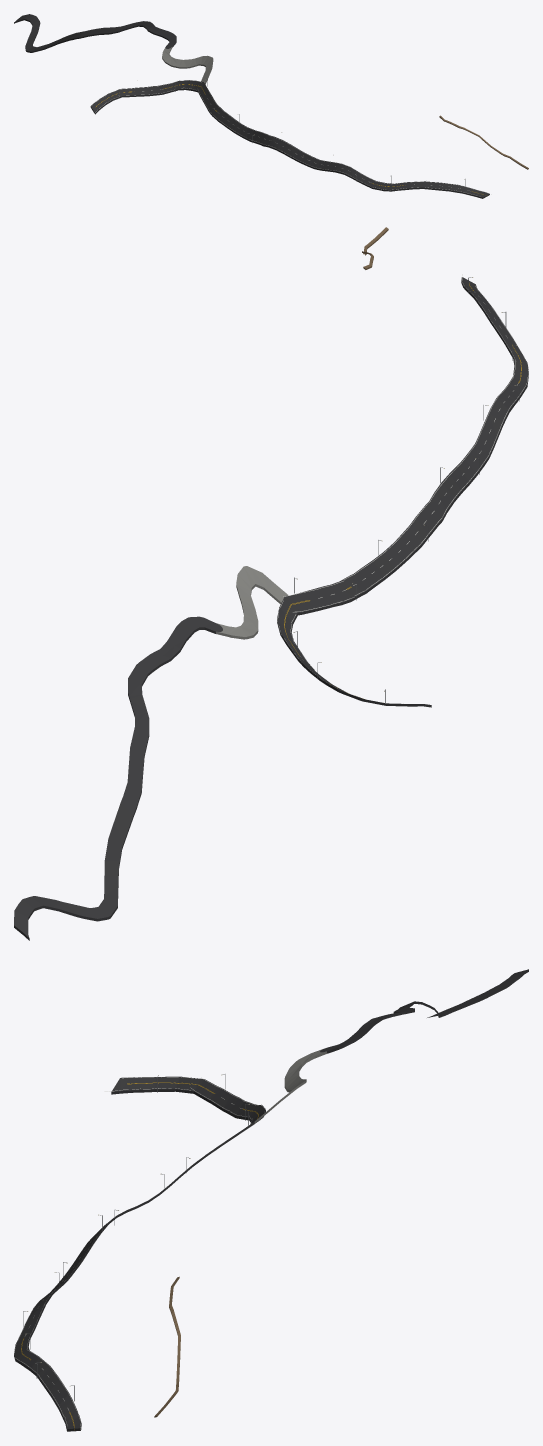
The model's file is 16-54708-29726.185aae1d.glb.
3 renders of one model, top to bottom at view 1: azimuth 30°, elevation 25°; view 2: azimuth 150°, elevation 25°; view 3: azimuth 330°, elevation 25°, orthographic. The views are drawn at different scales.
Bounding box in the file's own units: 223 × 93.08 × 585.
